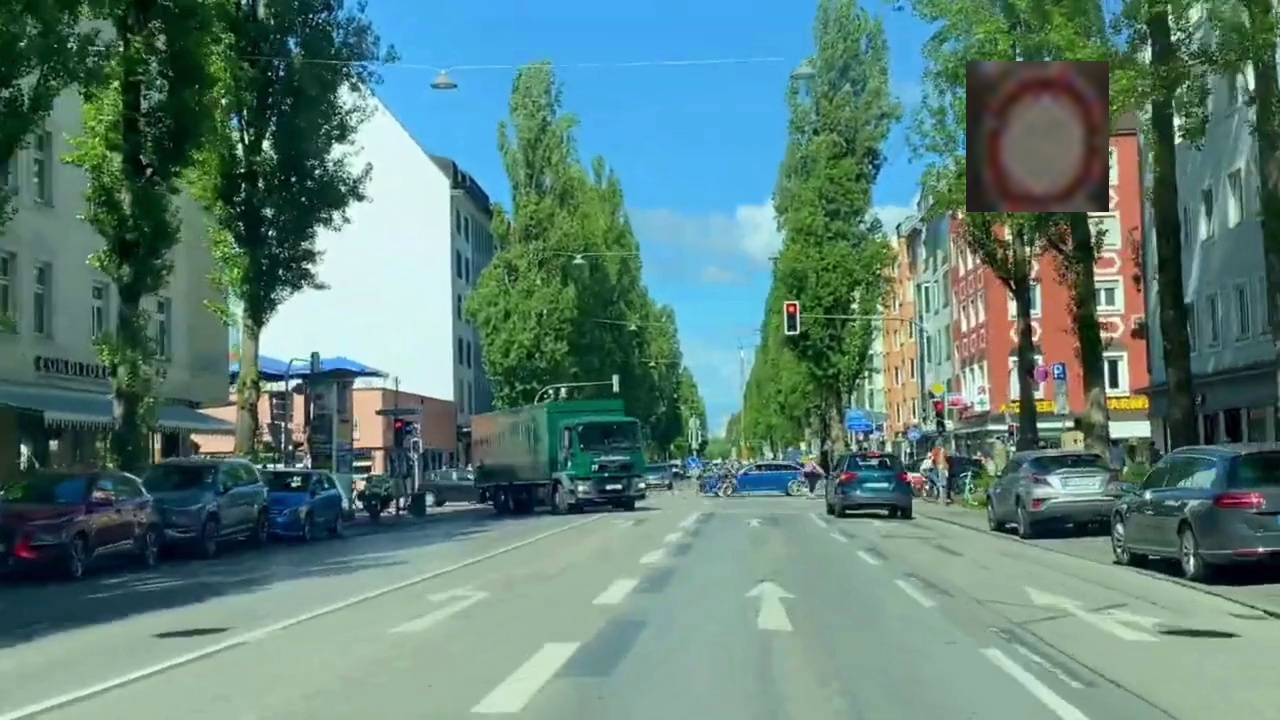No vehicles: (966, 61, 1109, 212)
